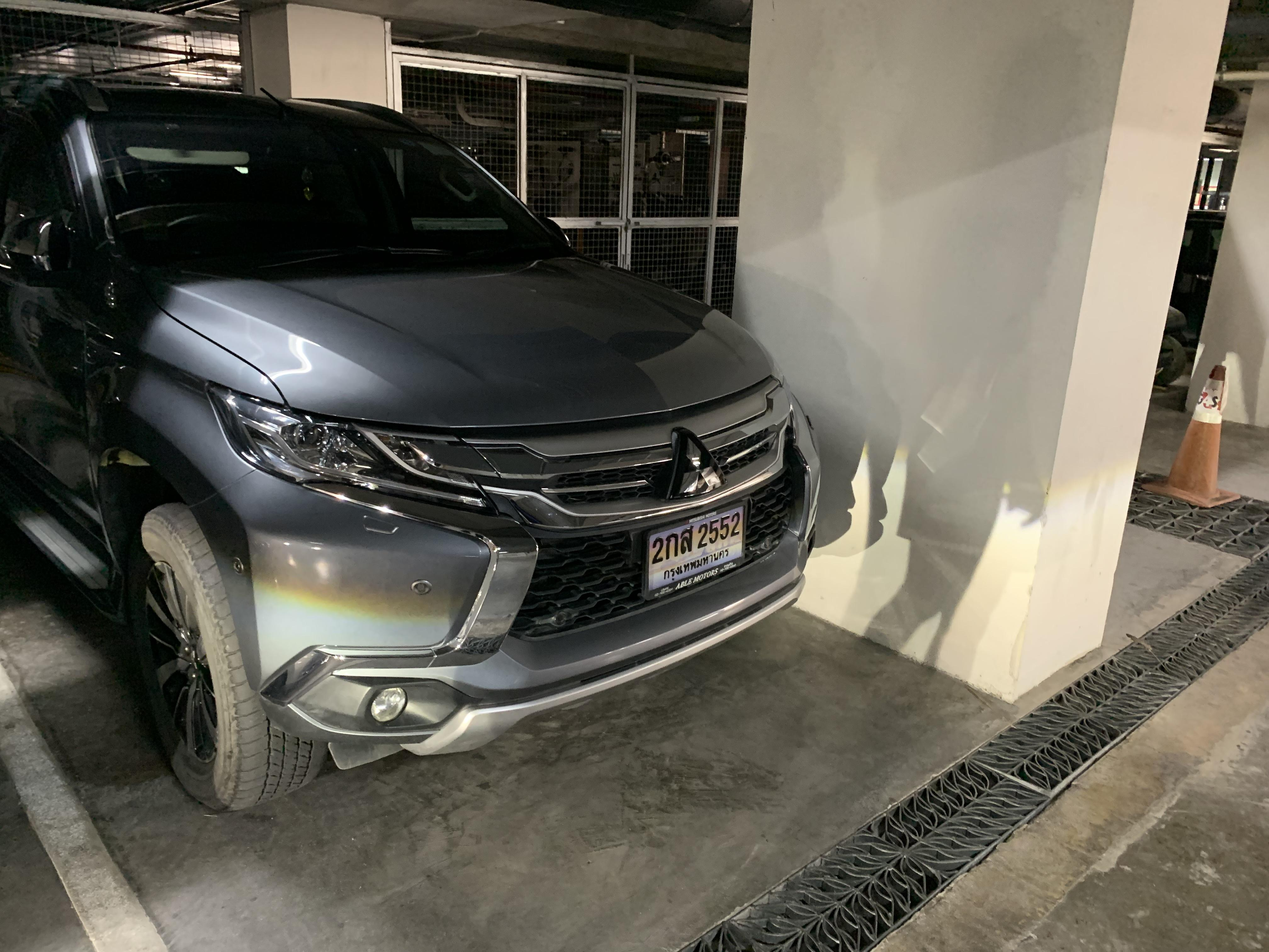license-plate: (638, 496, 753, 607)
